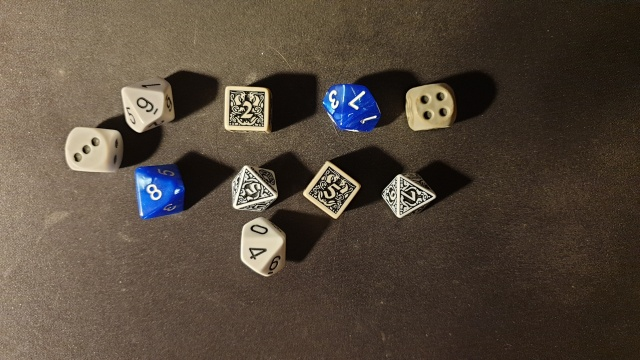d10-4: (236, 232, 283, 274)
d10-7: (331, 76, 379, 131)
d10-8: (129, 170, 185, 217)
d10-9: (118, 83, 169, 121)
d6-3: (62, 126, 115, 173)
d6-4: (405, 79, 459, 133)
d6p-2: (222, 85, 270, 131)
d6p-5: (301, 156, 364, 225)
d8p-5: (226, 163, 281, 213)
d8p-7: (393, 173, 436, 221)
